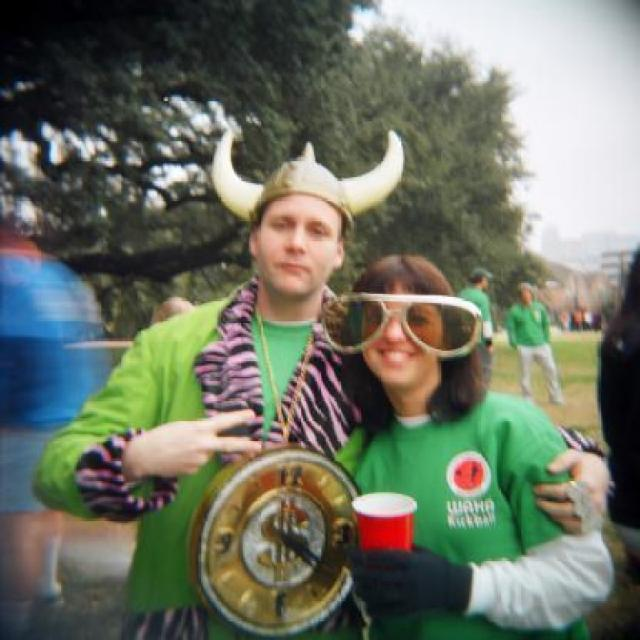face_nomask: (255, 198, 343, 282), (353, 299, 435, 373)
glasses: (339, 284, 487, 368)
hand_glove: (331, 532, 482, 618)
hand_noglove: (120, 391, 268, 486), (522, 438, 622, 540)
head_helmet: (241, 139, 357, 218)
head_nohelmet: (348, 247, 446, 308)
person: (31, 124, 359, 640), (300, 241, 616, 640)
